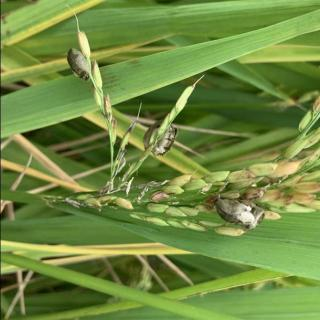Gosong-Palsu: (213, 191, 267, 231), (140, 118, 180, 158), (66, 44, 92, 84)
